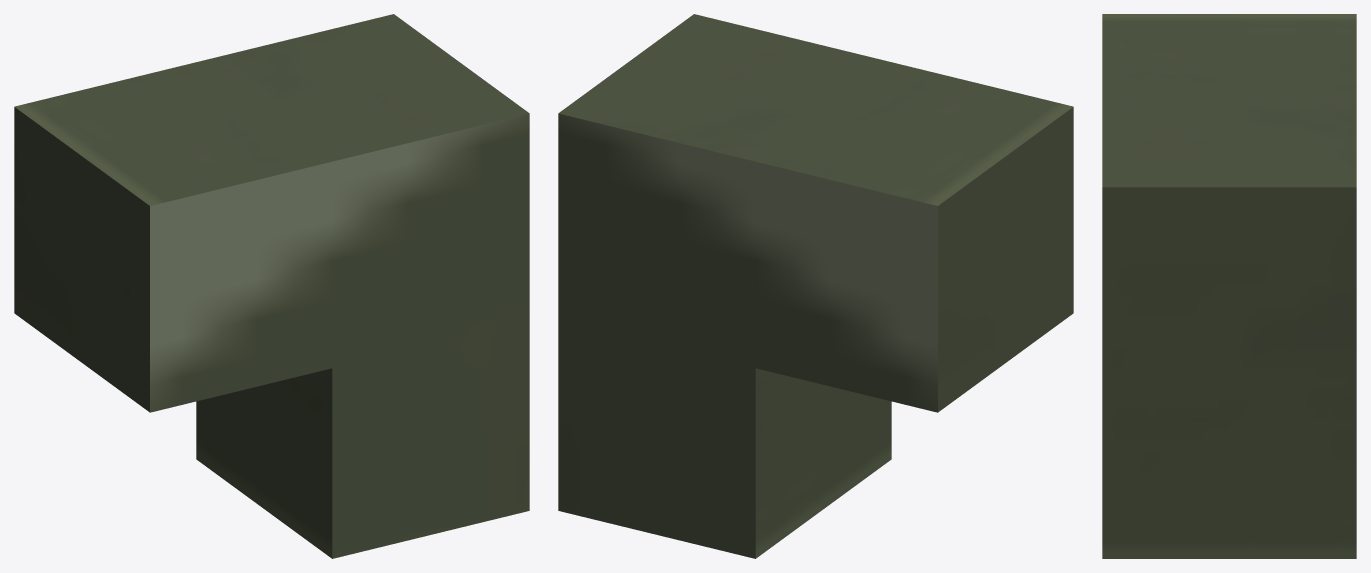
File: pz_counter_green_wall_corner.obj
3 renders of one model, left to right at view 1: azimuth 30°, elevation 25°; view 2: azimuth 150°, elevation 25°; view 3: azimuth 270°, elevation 25°, orthographic. The views are drawn at different scales.
Bounding box in the file's own units: 1 × 1 × 0.62.
1 material, 1 textured.
